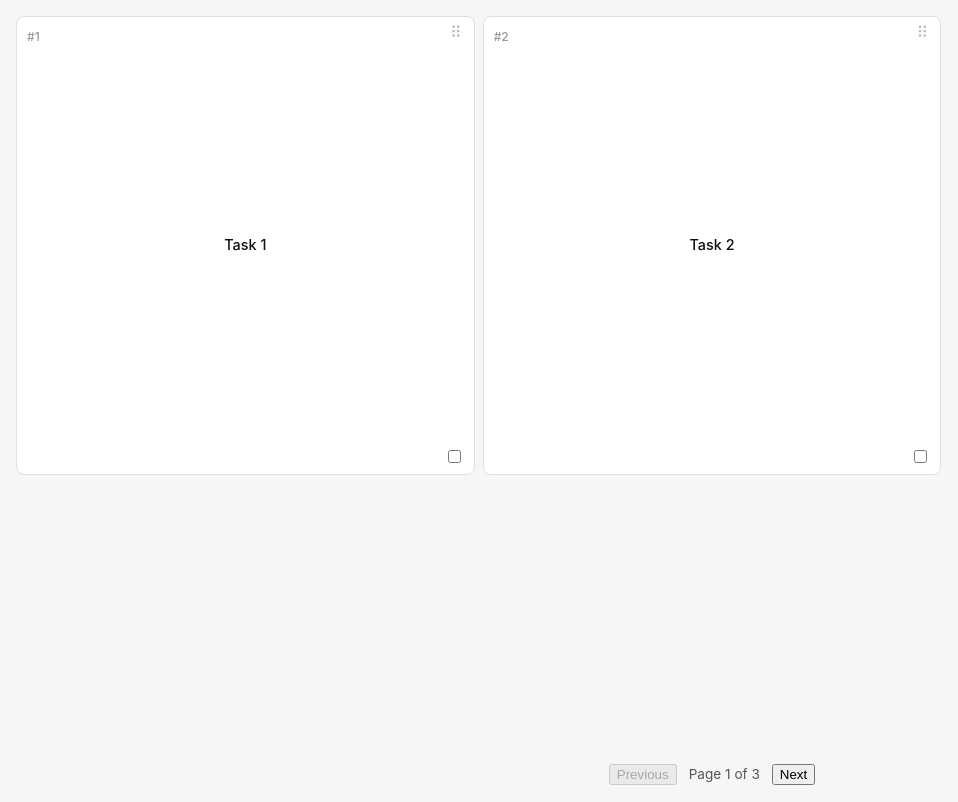
GridView pagination › navigates to next page and shows correct tasks
Click the button "Next".
click(794, 774)  # box [772,764,815,784]
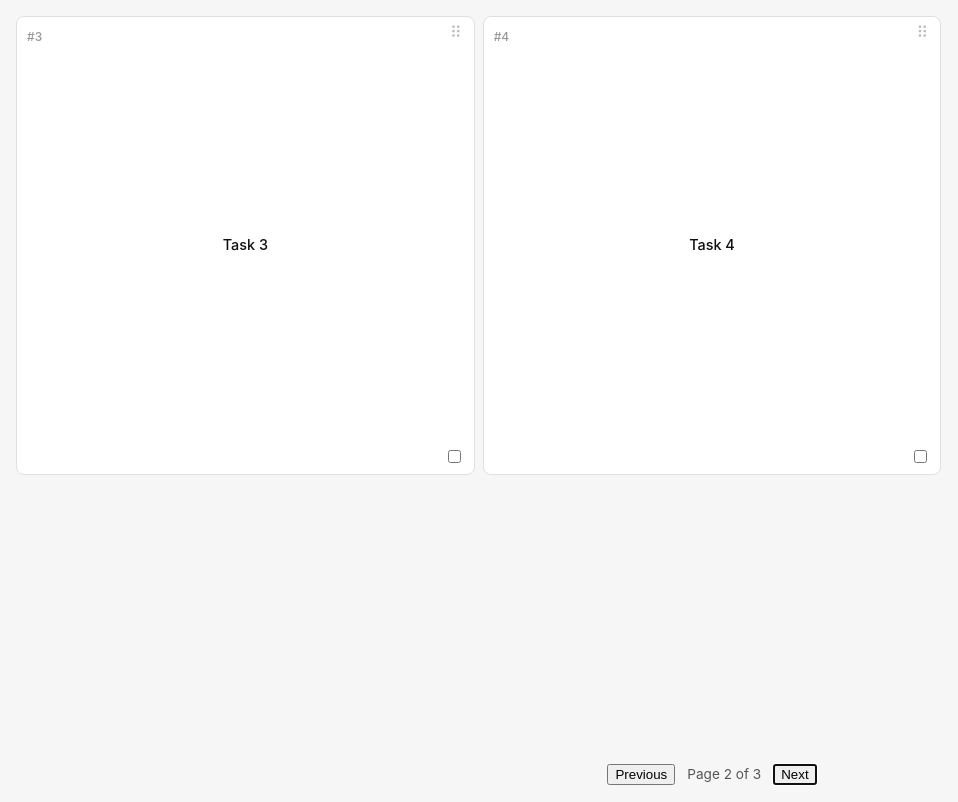
Check: the text "Page 2 of 3" is shown, box [687,762,761,786]
Check: the text "Task 3" is shown, box [223,233,268,257]
Check: the text "Task 4" is shown, box [689,233,735,257]
